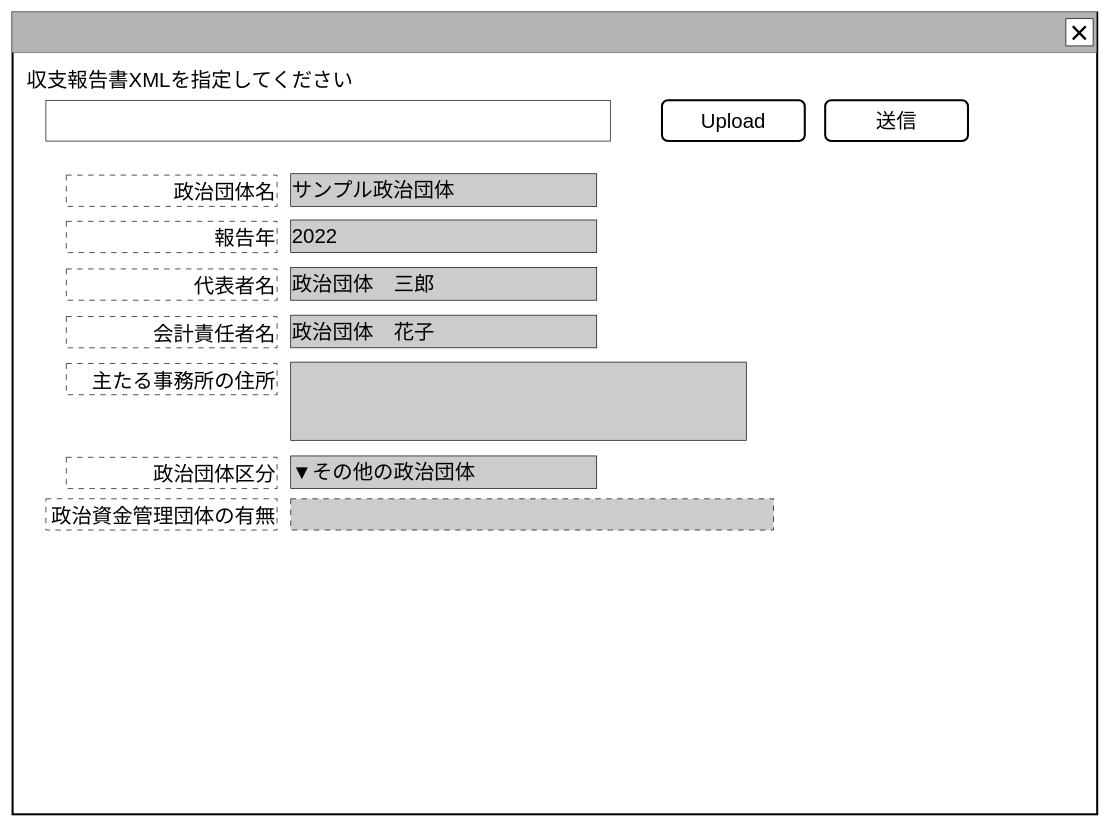
The diagram is 1110 pixels wide and 827 high, and some of its shapes have lost their labels. The centre of each missing label's shape, as x and y in pixels:
☑有: the point at 532,514
東京都千代田区霞が関xxxx番地zzzビルディングqqq号室: the point at 518,400
